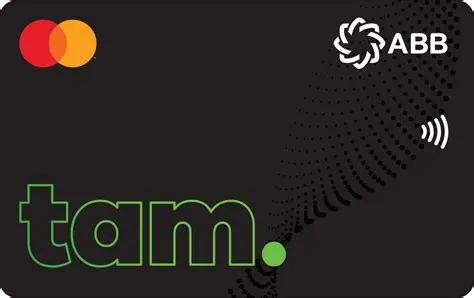ABB: (331, 15, 386, 70)
